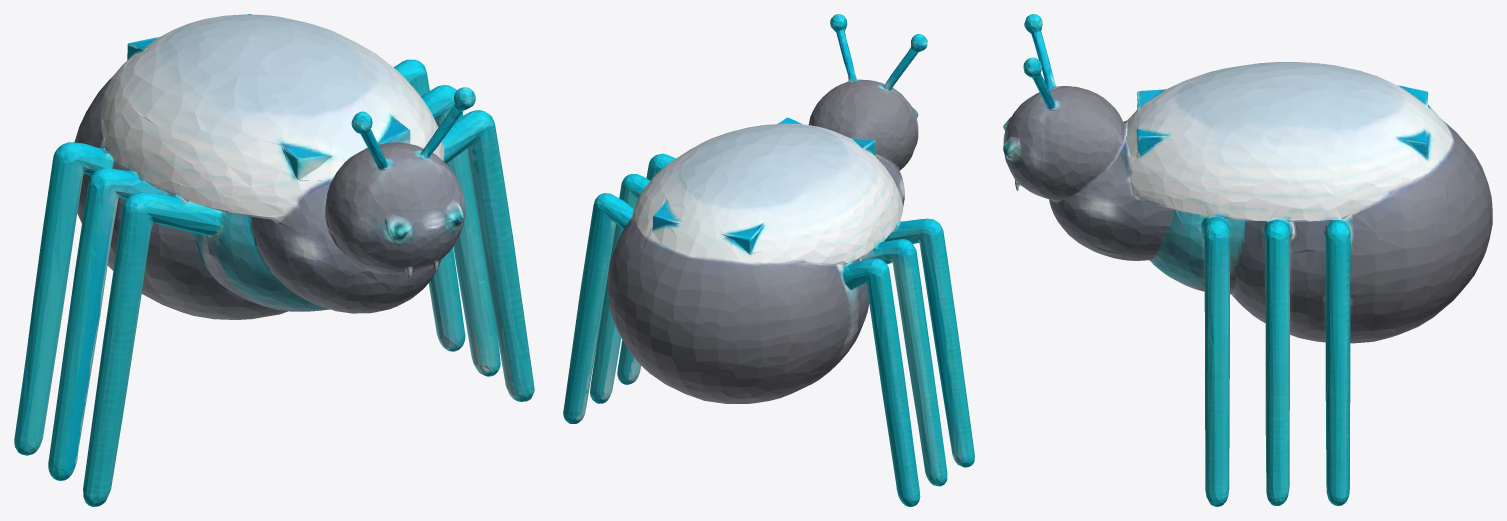
File: creature-109.lod.glb
3 views of the same model, side by side, from view 1: azimuth 30°, elevation 25°; view 2: azimuth 150°, elevation 25°; view 3: azimuth 270°, elevation 25° (orthographic). The views are drawn at different scales.
Visible parts, largest first — view 1: tmpwzp2aeaq.ply; view 2: tmpwzp2aeaq.ply; view 3: tmpwzp2aeaq.ply.
Part boxes in pixels (x1,y1,x2,y2): tmpwzp2aeaq.ply: (14,14,534,506); tmpwzp2aeaq.ply: (563,14,974,506); tmpwzp2aeaq.ply: (1003,14,1492,506).
Bounding box in the file's own units: 1.85 × 1.7 × 1.99.
Materials: 1 (1 with a texture image).
